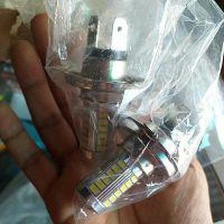light_bulb: (76, 102, 203, 221), (59, 10, 147, 161)
